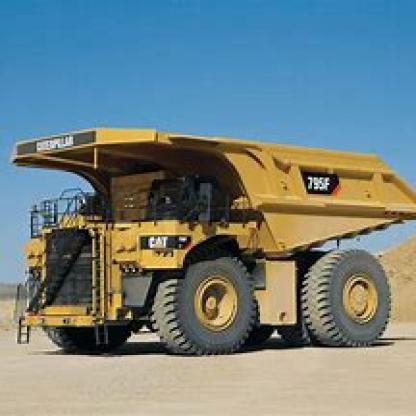dump_truck: (15, 120, 410, 357)
